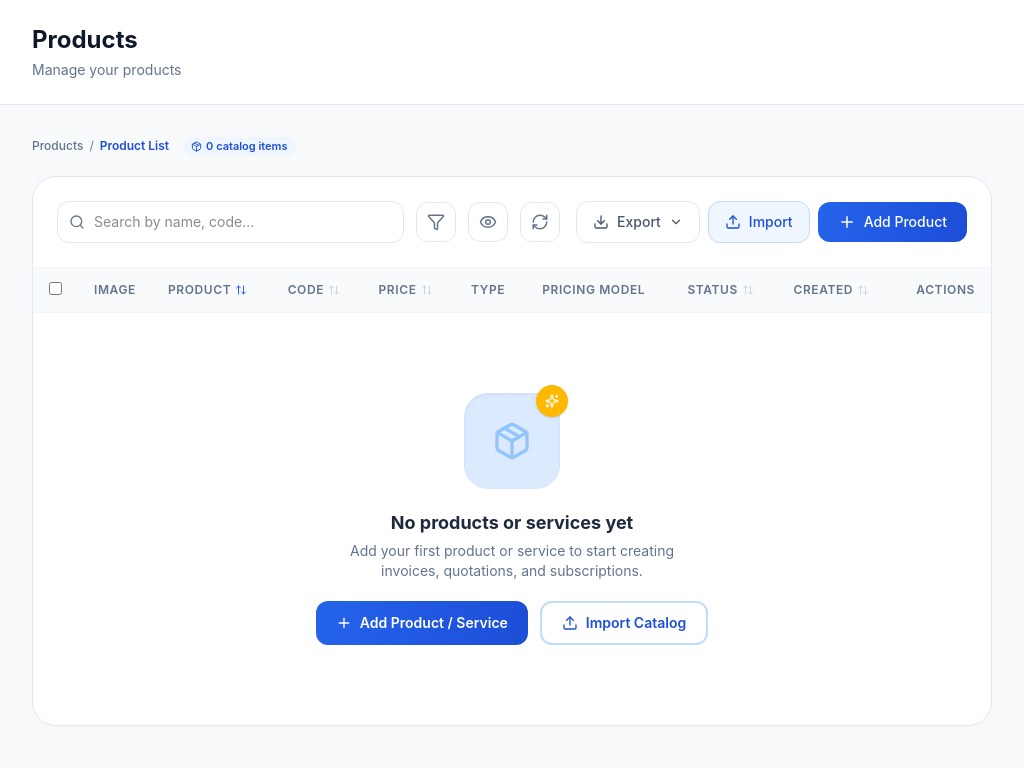
Test: Add Product — Category dropdown (defect #4) › renders the org's categories as options in the New Product modal
This screenshot has width=1024, height=768.
Click the button "Add Product" at x=892, y=222, box [818,202,967,242]
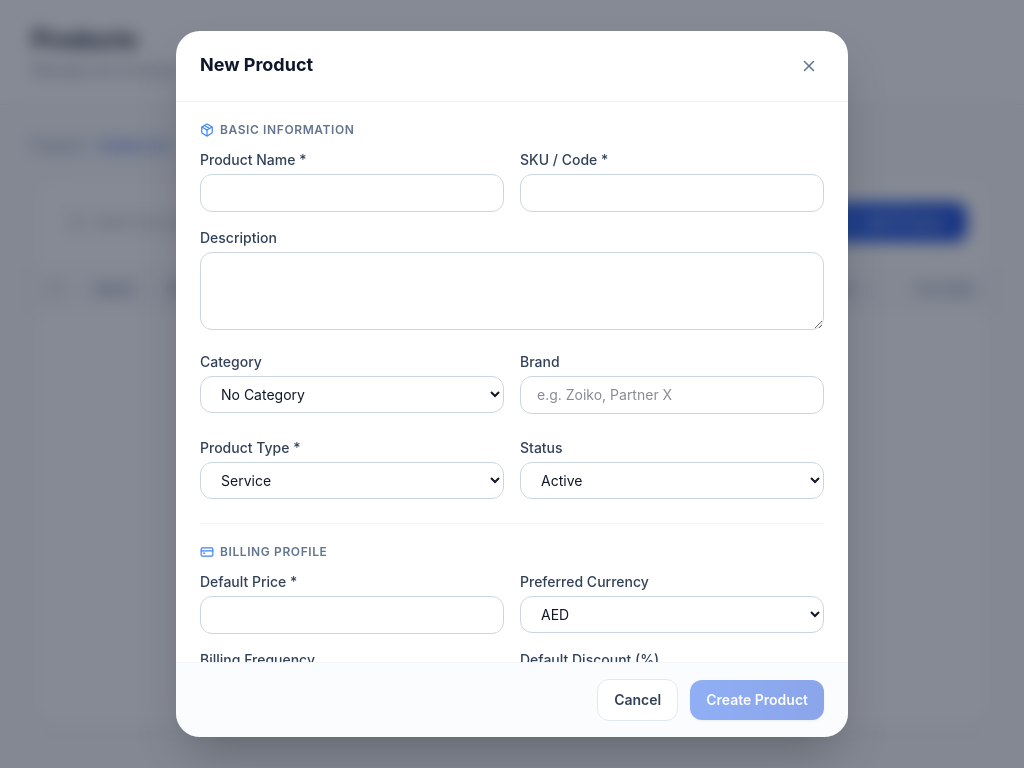
Result: the heading "New Product" is shown at [200,51,313,79]
